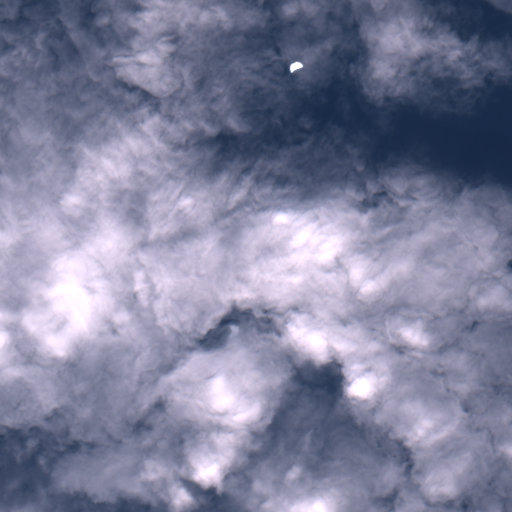Iceberg: (289, 61, 303, 72)
